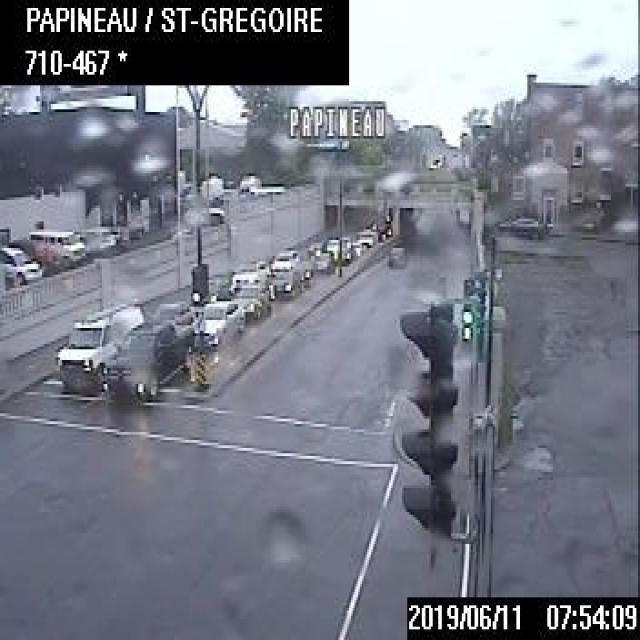vehicle: (97, 312, 199, 398), (52, 301, 144, 395), (195, 299, 244, 348), (28, 226, 88, 263), (0, 245, 40, 283), (496, 214, 546, 243), (231, 280, 268, 316), (230, 257, 267, 285), (268, 266, 301, 296), (270, 248, 297, 271), (308, 250, 334, 271), (296, 258, 315, 281), (387, 244, 405, 266)
